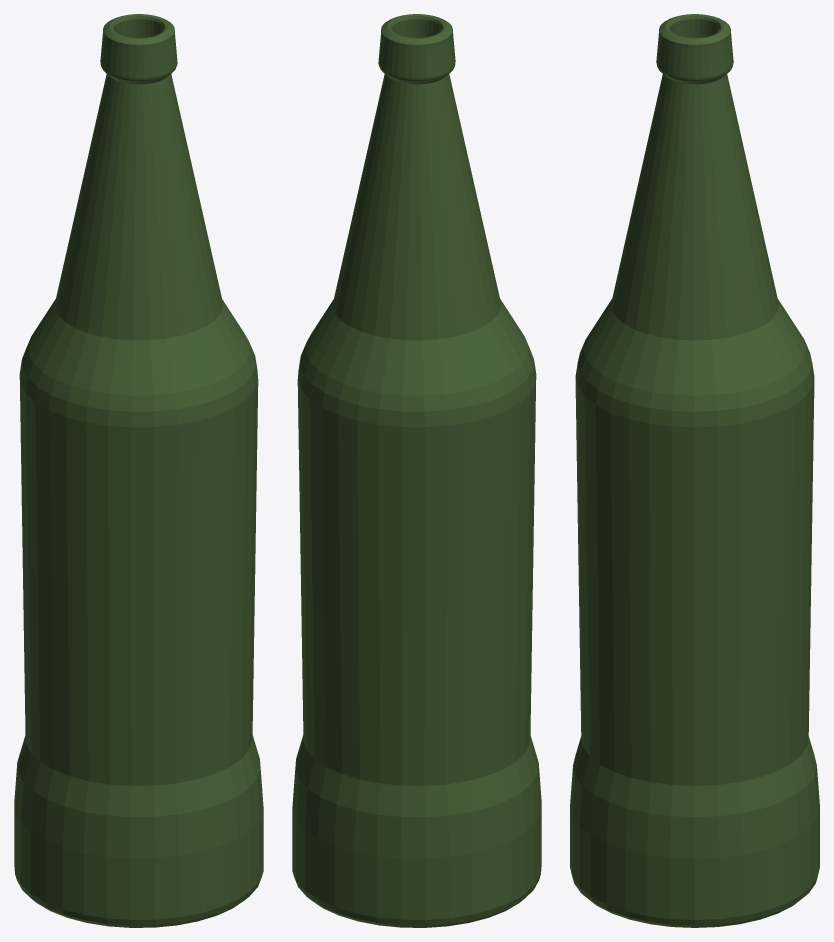
Rendered from Glass1.fbx.
The picture shows the model from 3 angles, left to right: view 1: azimuth 30°, elevation 25°; view 2: azimuth 150°, elevation 25°; view 3: azimuth 270°, elevation 25°; orthographic projection.
Parts seen in each view (by area): view 1: Glass; view 2: Glass; view 3: Glass.
Boxes of the visible parts, left/top/right/bottom form: Glass: left=14, top=14, right=263, bottom=927; Glass: left=292, top=14, right=541, bottom=927; Glass: left=570, top=14, right=819, bottom=927.
Size of the model in its own units: 19.94 by 75.12 by 19.94.
